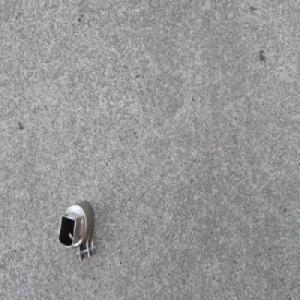MetalPart: (57, 198, 98, 263)
